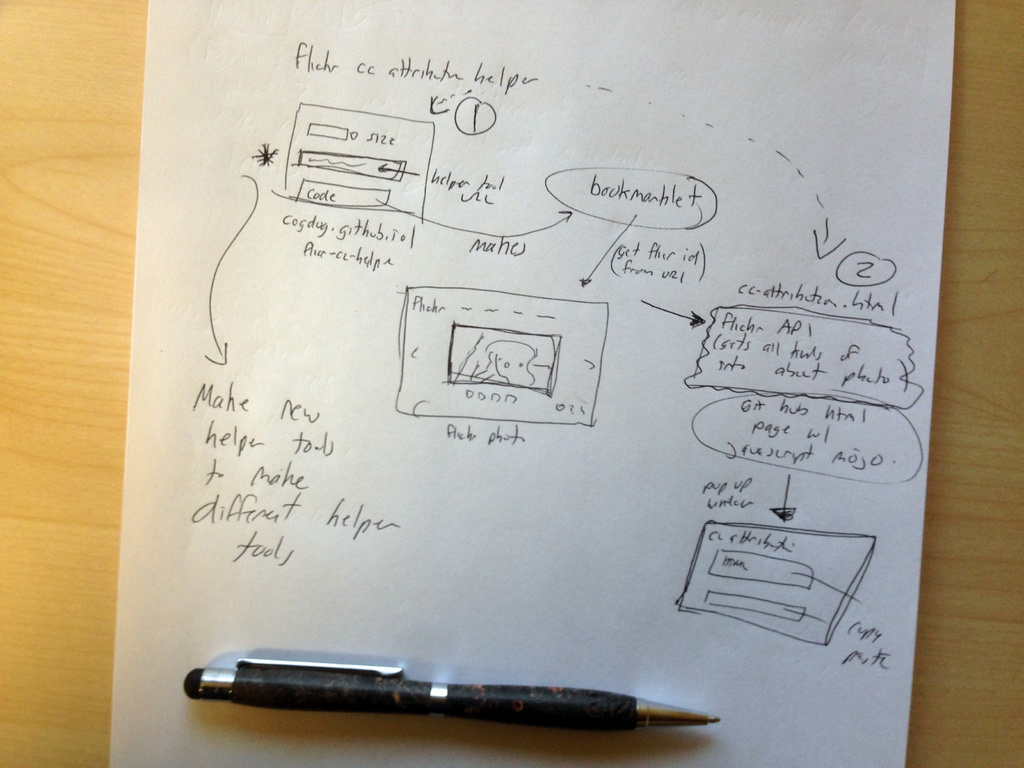Pen: (175, 652, 726, 723)
